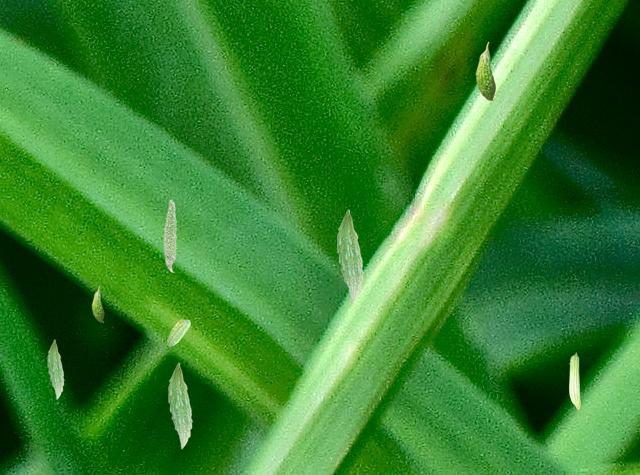ampalaya: (336, 209, 363, 303), (167, 362, 192, 449), (475, 41, 496, 102), (47, 339, 64, 400), (163, 199, 177, 272), (568, 352, 581, 410), (166, 318, 191, 347), (91, 285, 104, 322)
